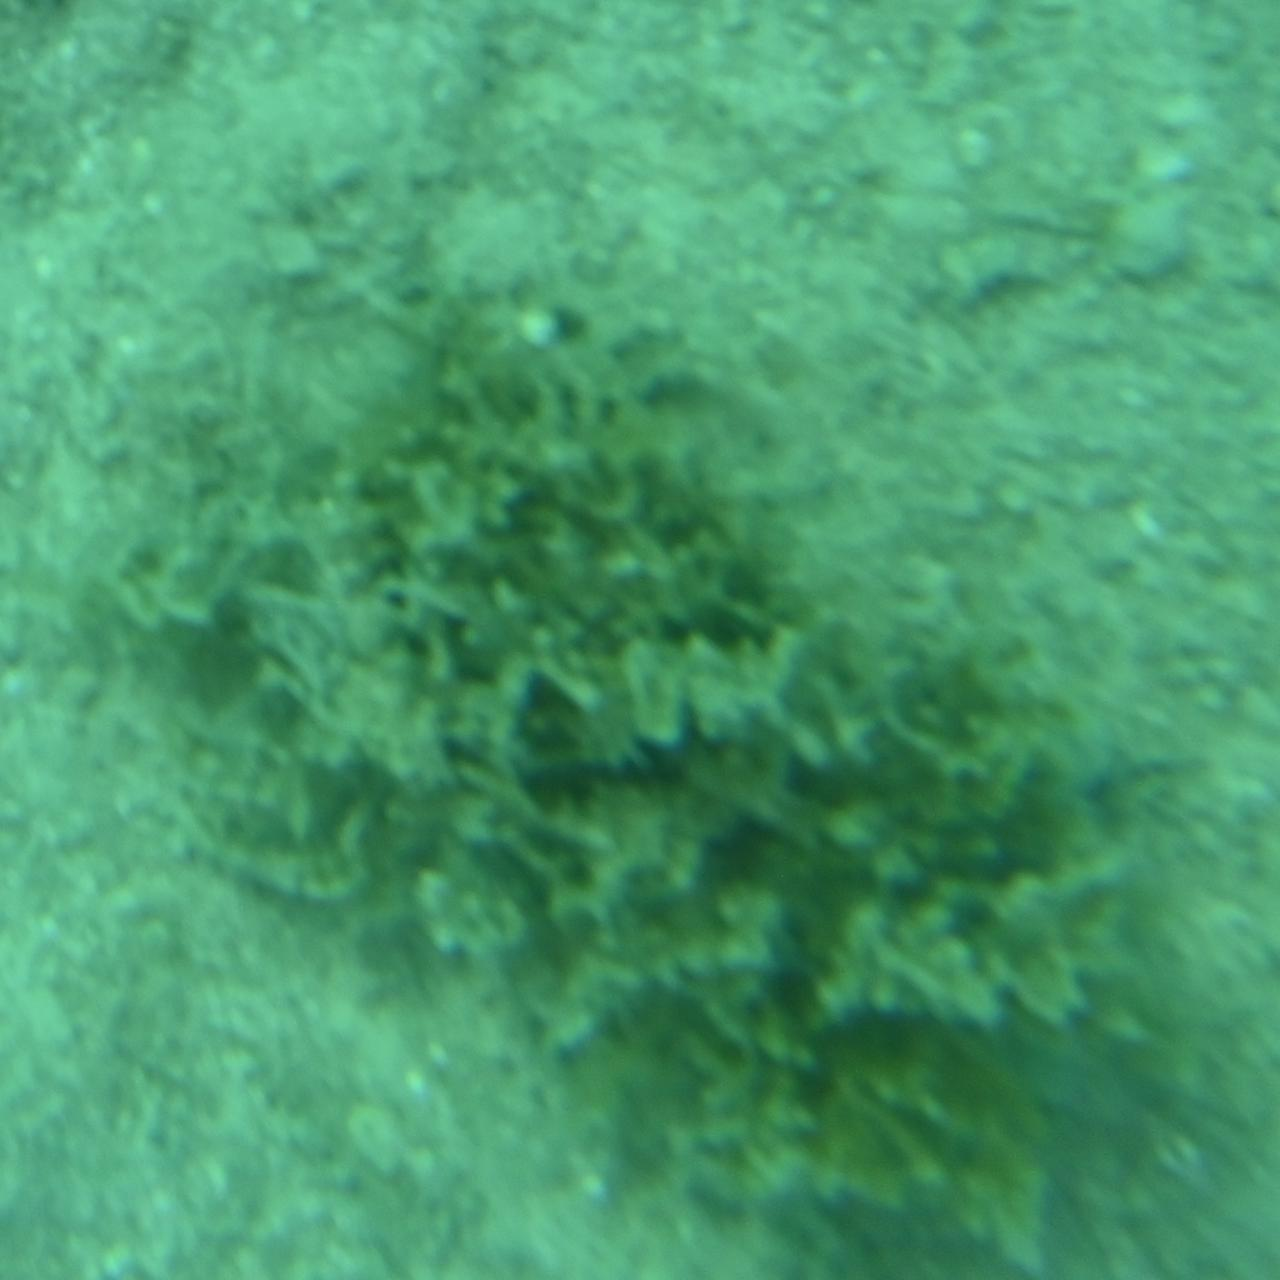Phaeophyceae -cfr Cystoseira-: (114, 303, 1166, 1236)
